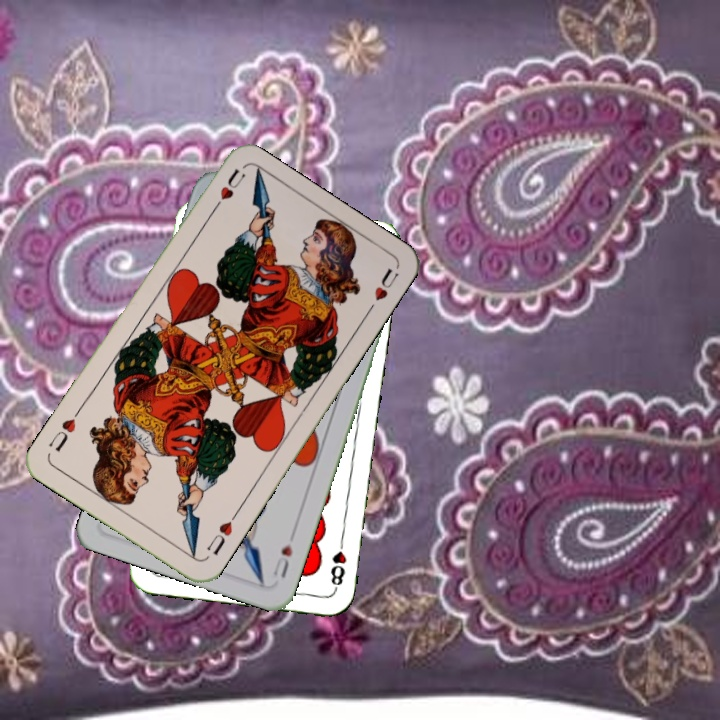H8: (326, 533, 349, 593)
HU: (206, 164, 249, 217), (202, 508, 240, 559), (269, 540, 295, 581)
